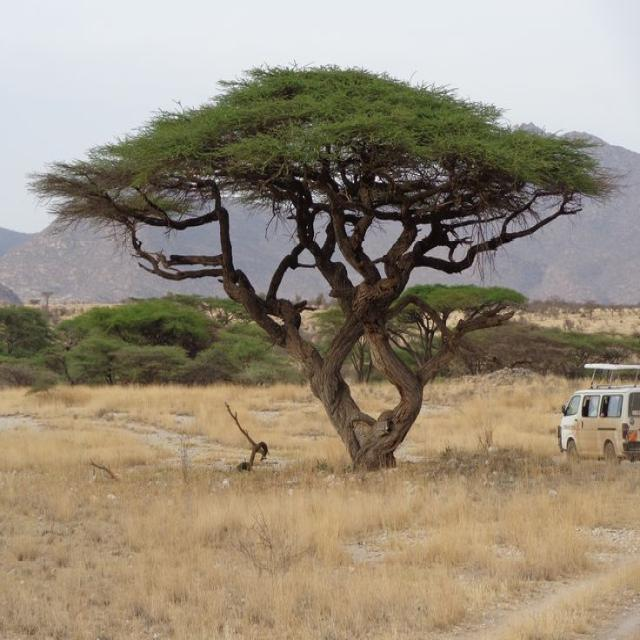Acacia: (93, 74, 558, 454)
